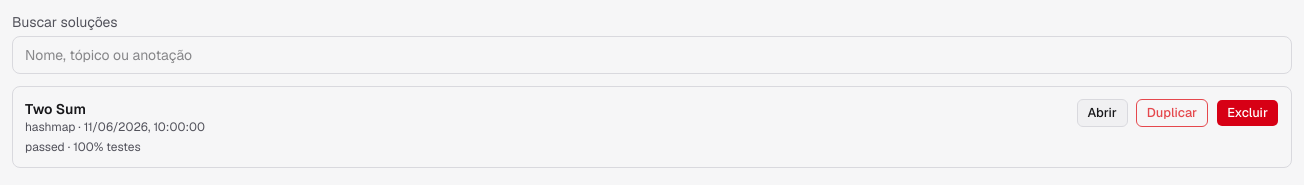
Test: PlaygroundSaved › filters saved solutions by query
expect the text "Two Sum" is shown: met, box [25,100,86,118]
Type "missing" into the field labelled "Buscar soluções" at (652, 55), box [12,36,1292,74]
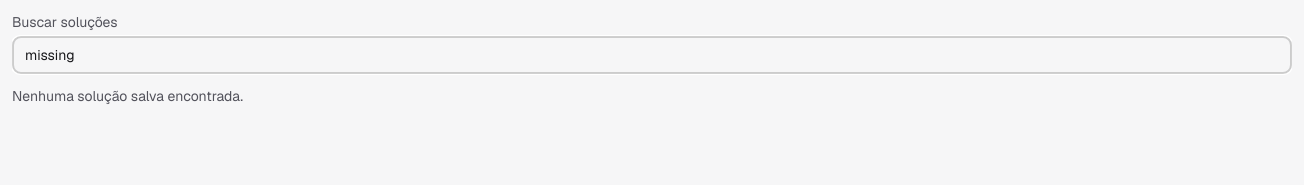
expect the text "Two Sum" is gone: met
expect the text "Nenhuma solução salva encontrada." is shown: met, box [12,87,243,105]
